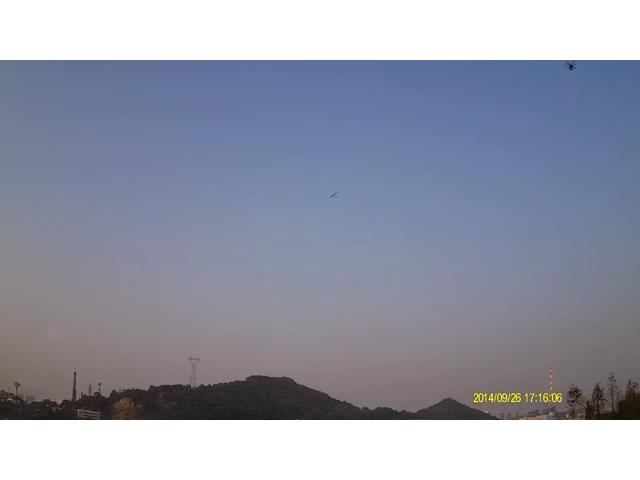Anti-Drone: (321, 185, 349, 203)
